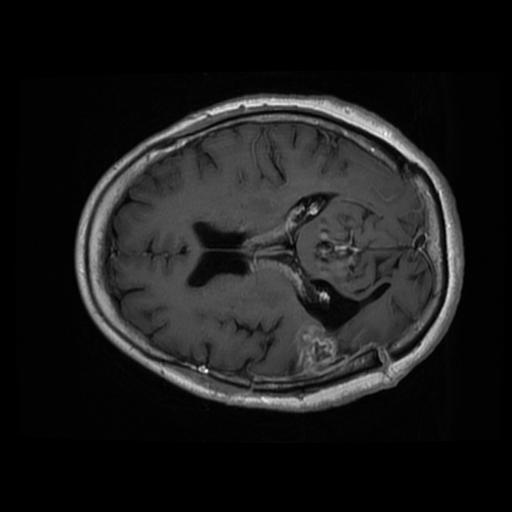glioma: (289, 320, 340, 369)
